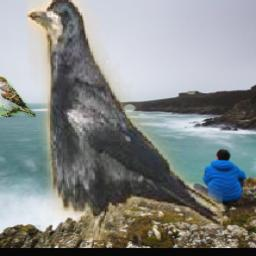Crow: (27, 0, 223, 240)
Sparrow: (0, 77, 36, 118)
